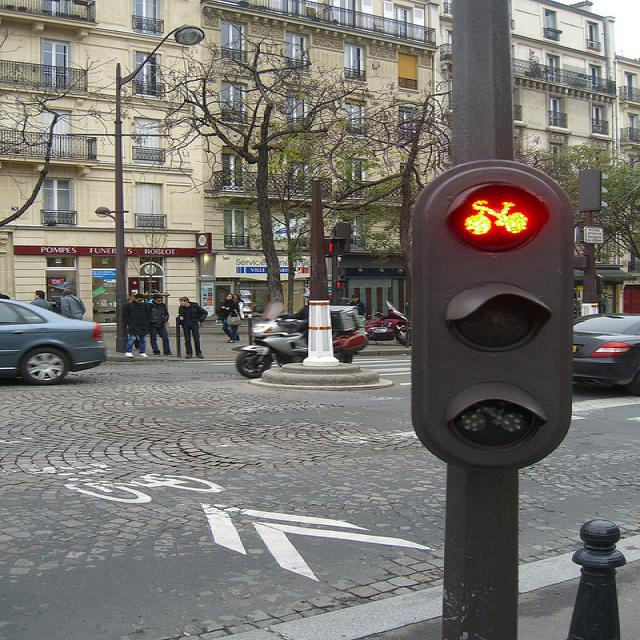motor: (231, 300, 369, 377), (365, 300, 412, 347)
